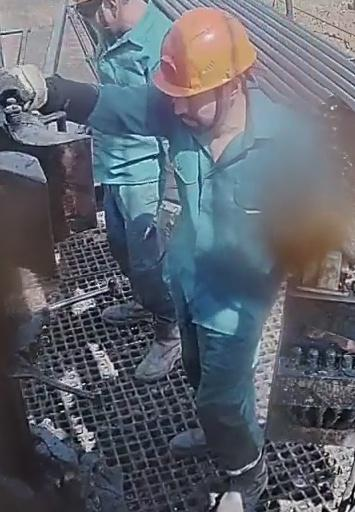gloves: (140, 198, 183, 264), (0, 63, 48, 112)
goggles: (72, 0, 118, 20)
helmet: (151, 6, 256, 98)
vest: (142, 96, 305, 340), (95, 12, 170, 184)
